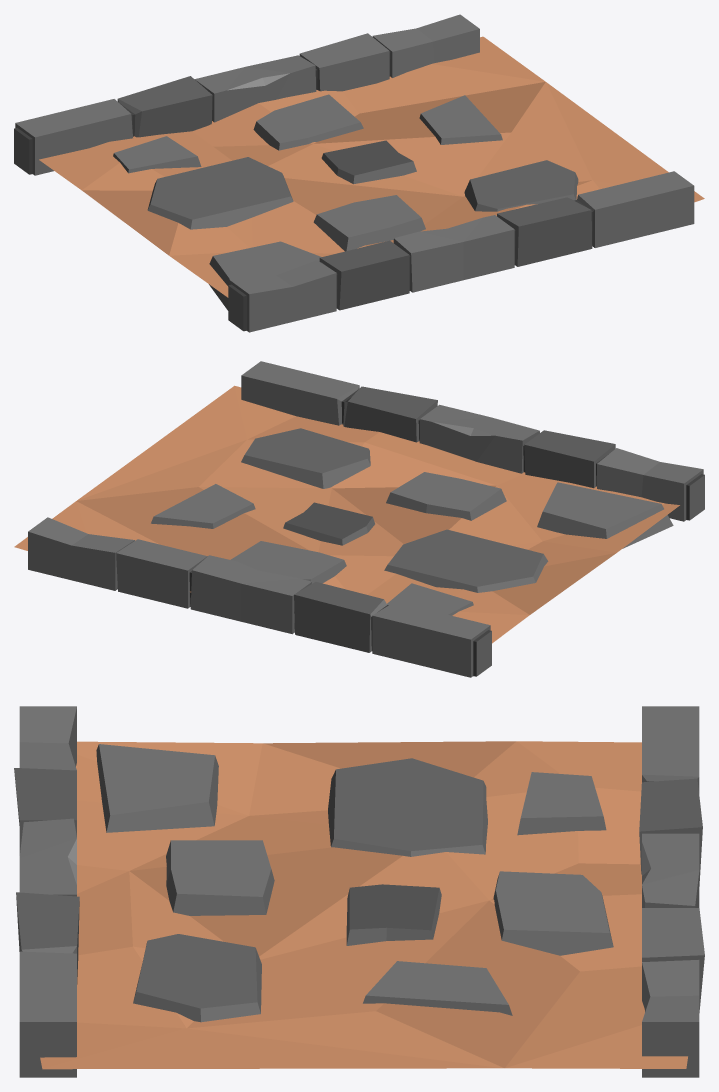
Rendered from road_03.fbx.
The picture shows the model from 3 angles, top to bottom: view 1: azimuth 30°, elevation 25°; view 2: azimuth 150°, elevation 25°; view 3: azimuth 270°, elevation 25°; orthographic projection. The views are drawn at different scales.
Parts seen in each view (by area): view 1: road_03; view 2: road_03; view 3: road_03.
Part boxes in pixels (left/top/right/bottom): road_03: left=14, top=14, right=704, bottom=332; road_03: left=14, top=361, right=704, bottom=677; road_03: left=14, top=706, right=704, bottom=1077.
Bounding box in the file's own units: 3.86 × 0.3475 × 3.4.
